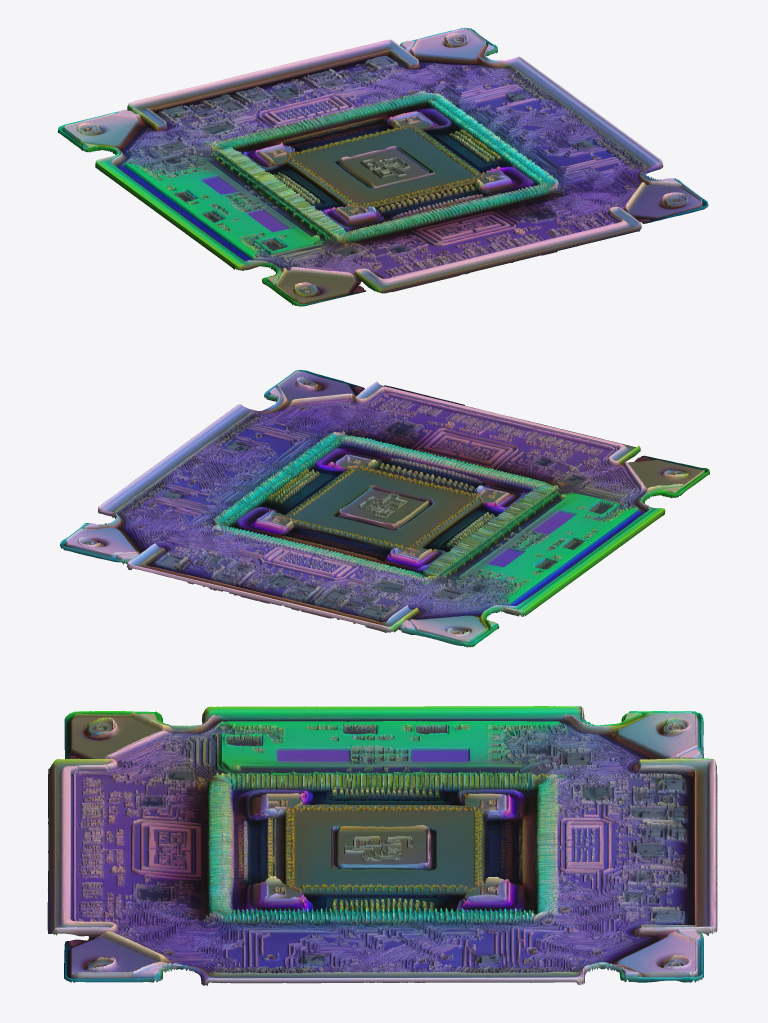
File: chipset.glb
3 renders of one model, top to bottom at view 1: azimuth 30°, elevation 25°; view 2: azimuth 150°, elevation 25°; view 3: azimuth 270°, elevation 25°, orthographic. The views are drawn at different scales.
Visible parts, largest first — view 1: Object_4; view 2: Object_4; view 3: Object_4.
Boxes of the visible parts, left/top/right/bottom form: Object_4: left=58, top=27, right=708, bottom=306; Object_4: left=60, top=370, right=709, bottom=647; Object_4: left=47, top=706, right=717, bottom=985.
Size of the model in its own units: 2 by 0.0347 by 2.
1 material, 1 textured.
